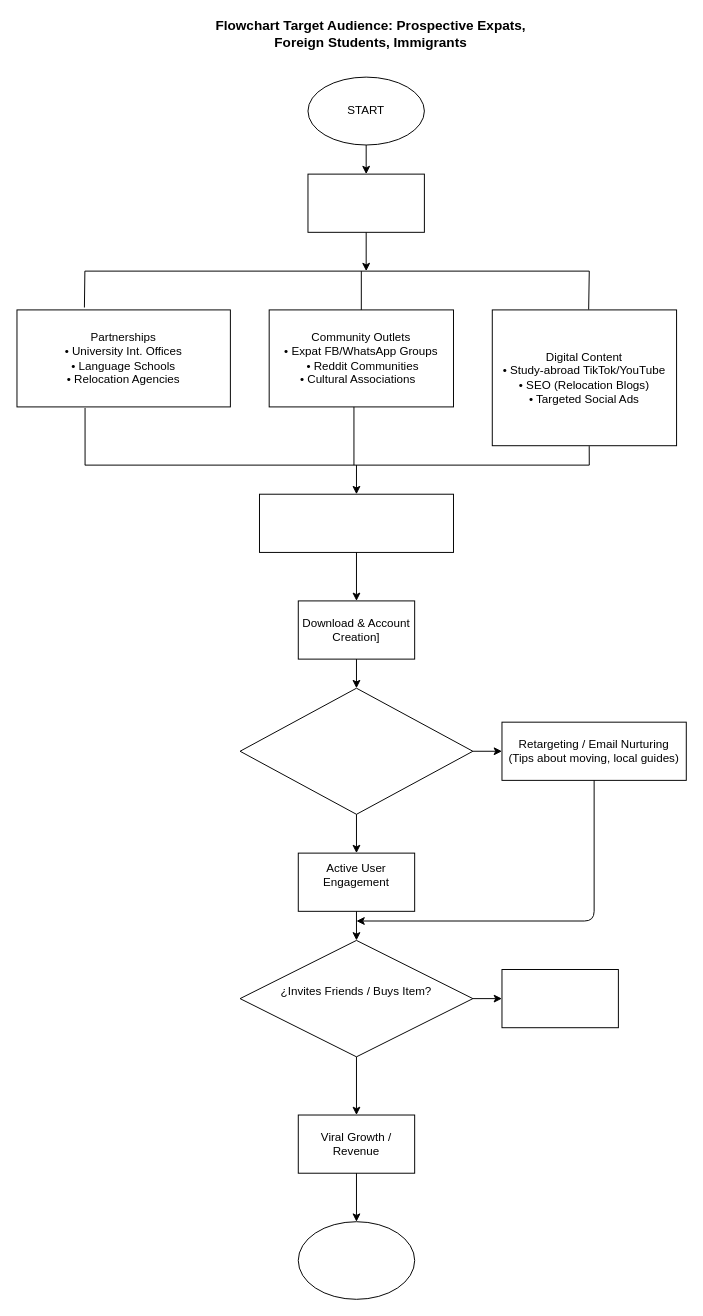
Image size: 703x1316. Some labels were removed from this diagram. Each missing label, with the centre of its shape:
"Acquisition Channels" goes at point (365, 202).
"END" goes at point (356, 1260).
"Land on App Store / Page" goes at point (356, 522).
"Retain via Local Notifications" goes at point (559, 998).
"¿Completes Onboarding & Selects City?" goes at point (356, 750).
